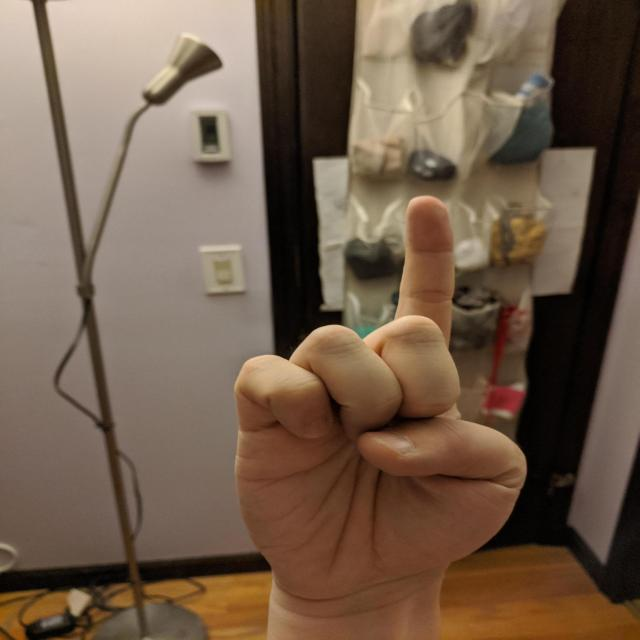D: (226, 191, 532, 603)
